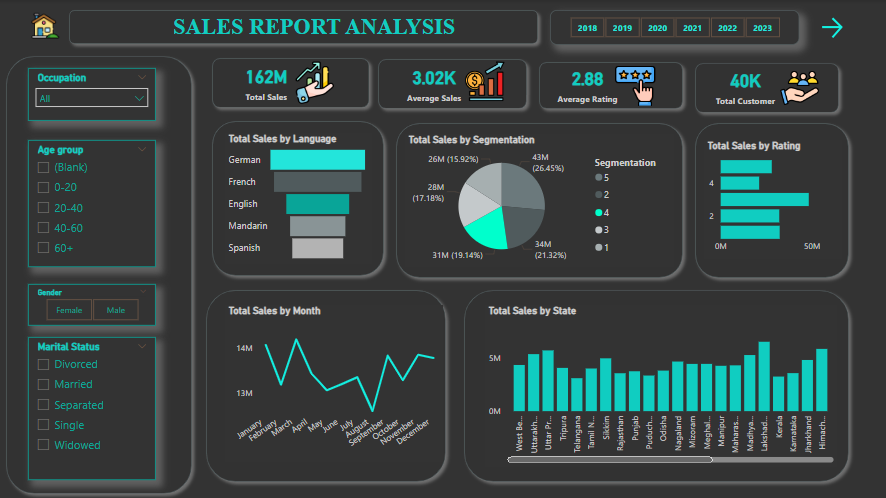

The page's visual inventory and layout, read from the dashboard file:
{"tool":"powerbi","page":{"name":"Sales Report","canvas":[1280,720],"ordinal":1},"visuals":[{"type":"shape","box":[289.4,409,362.9,293.8],"z":0},{"type":"shape","box":[661,409,571.7,293.8],"z":1000},{"type":"shape","box":[563,168.5,430.6,240.5],"z":2000},{"type":"shape","box":[298.1,165.6,265,240.5],"z":3000},{"type":"shape","box":[993.3,81.8,224.5,89.1],"z":4000},{"type":"shape","box":[769,80.6,224.6,85],"z":5000},{"type":"shape","box":[536.9,76.9,231.8,89.1],"z":6000},{"type":"shape","box":[297.7,74.4,244,89.1],"z":7000},{"type":"card","fields":{"Values":["customer_dataset.total_sales"]},"box":[338,72,92.7,91.5],"z":8000},{"type":"card","fields":{"Values":["customer_dataset.total_customer"]},"box":[1015.2,77.8,119.5,92.2],"z":9000},{"type":"card","fields":{"Values":["customer_dataset.avg_sales"]},"box":[578.4,63.5,95.2,111],"z":10000},{"type":"card","fields":{"Values":["Avg(customer_dataset.Rating)"]},"box":[784.6,76.9,125.7,89.1],"z":11000},{"type":"lineChart","title":"Total Sales by Month","fields":{"Category":["customer_dataset.Date.Variation.Date Hierarchy.Month"],"Y":["customer_dataset.total_sales"]},"box":[325.4,439.2,313.9,226.1],"z":12000},{"type":"pieChart","title":"Total Sales by Segmentation","fields":{"Category":["customer_dataset.Segmentation Group"],"Y":["customer_dataset.total_sales"]},"box":[584.6,193,387.4,191.5],"z":13000},{"type":"funnel","title":"Total Sales by Language","fields":{"Category":["customer_dataset.Language"],"Y":["customer_dataset.total_sales"]},"box":[325.4,191.5,211.7,188.6],"z":14000},{"type":"lineStackedColumnComboChart","title":"Total Sales by State","fields":{"Y":["customer_dataset.total_sales"],"Category":["customer_dataset.State"]},"box":[699.8,439.2,506.9,231.8],"z":15000},{"type":"slicer","fields":{"Values":["customer_dataset.Date.Variation.Date Hierarchy.Year"]},"box":[793.1,14.6,358.7,50],"z":16000},{"type":"shape","box":[1.4,72,285.1,648],"z":17000},{"type":"shape","box":[993.6,168.5,239,240.5],"z":18000},{"type":"image","box":[406.3,84.2,97.6,70.8],"z":19000},{"type":"image","box":[661.4,84.2,76.9,67.1],"z":20000},{"type":"image","box":[871.2,87.8,89.3,72],"z":21000},{"type":"image","box":[1108.8,93.6,87.8,66.2],"z":22000},{"type":"shape","box":[92.2,5.8,692.6,66.2],"z":23000},{"type":"textbox","box":[109.4,14.4,697,57.6],"z":24000},{"type":"image","box":[41.8,10.1,50.4,53.3],"z":25000},{"type":"slicer","fields":{"Values":["customer_dataset.Occupation"]},"box":[41.8,97.9,184.3,76.3],"z":26000},{"type":"slicer","fields":{"Values":["customer_dataset.Gender"]},"box":[41.8,409,184.3,60.5],"z":27000},{"type":"slicer","fields":{"Values":["customer_dataset.Marital Status"]},"box":[41.8,485.3,184.3,205.9],"z":28000},{"type":"slicer","fields":{"Values":["customer_dataset.age_group"]},"box":[41.8,201.6,184.3,182.9],"z":29000},{"type":"clusteredBarChart","title":"Total Sales by Rating","fields":{"Category":["customer_dataset.Rating"],"Y":["customer_dataset.total_sales"]},"box":[1015.2,201.6,198.7,171.4],"z":30000},{"type":"actionButton","box":[1179.4,19.8,100.6,39.7],"z":31000}]}

Visuals, with their boxes in screenshot pixels (x1, y1, x2, y2), scaled from the page's 1280x720 canvas onto the 886x498 screenshot:
shape: box(200, 283, 452, 486)
shape: box(458, 283, 853, 486)
shape: box(390, 117, 688, 283)
shape: box(206, 115, 390, 281)
shape: box(688, 57, 843, 118)
shape: box(532, 56, 688, 115)
shape: box(372, 53, 532, 115)
shape: box(206, 51, 375, 113)
card - customer_dataset.total_sales: box(234, 50, 298, 113)
card - customer_dataset.total_customer: box(703, 54, 785, 118)
card - customer_dataset.avg_sales: box(400, 44, 466, 121)
card - Avg(customer_dataset.Rating): box(543, 53, 630, 115)
"Total Sales by Month" lineChart: box(225, 304, 443, 460)
"Total Sales by Segmentation" pieChart: box(405, 133, 673, 266)
"Total Sales by Language" funnel: box(225, 132, 372, 263)
"Total Sales by State" lineStackedColumnComboChart: box(484, 304, 835, 464)
slicer - customer_dataset.Date.Variation.Date Hierarchy.Year: box(549, 10, 797, 45)
shape: box(1, 50, 198, 497)
shape: box(688, 117, 853, 283)
image: box(281, 58, 349, 107)
image: box(458, 58, 511, 105)
image: box(603, 61, 665, 111)
image: box(767, 65, 828, 111)
shape: box(64, 4, 543, 50)
textbox: box(76, 10, 558, 50)
image: box(29, 7, 64, 44)
slicer - customer_dataset.Occupation: box(29, 68, 157, 120)
slicer - customer_dataset.Gender: box(29, 283, 157, 325)
slicer - customer_dataset.Marital Status: box(29, 336, 157, 478)
slicer - customer_dataset.age_group: box(29, 139, 157, 266)
"Total Sales by Rating" clusteredBarChart: box(703, 139, 840, 258)
actionButton: box(816, 14, 885, 41)
